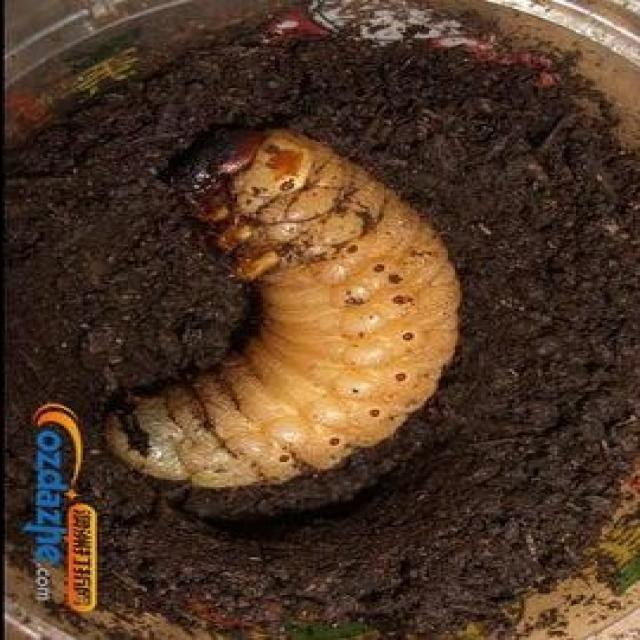grub: (98, 116, 478, 504)
